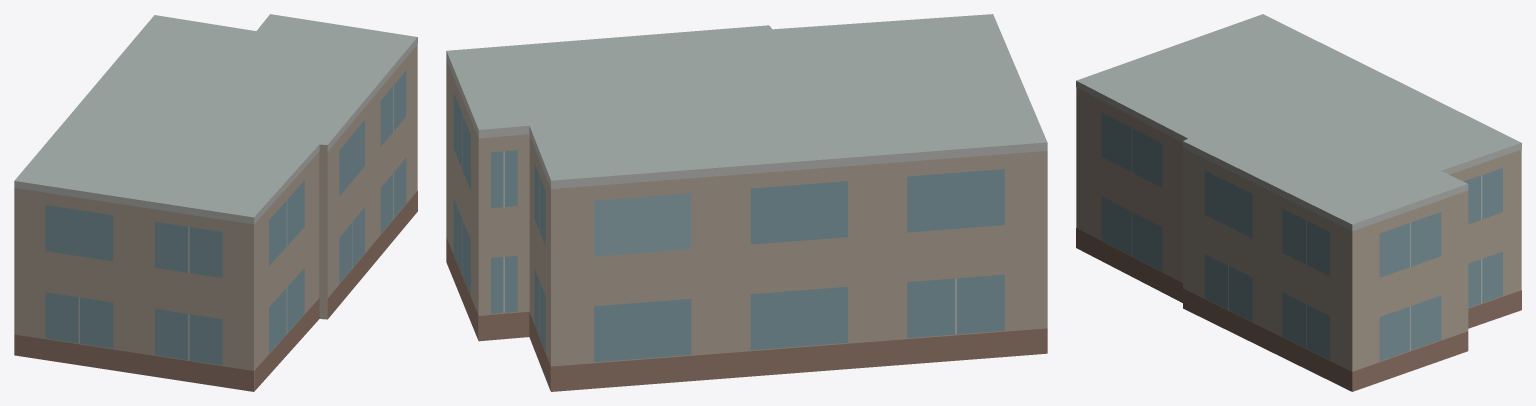
The model's file is survey-upis-32675953.glb.
3 renders of one model, left to right at view 1: azimuth 30°, elevation 25°; view 2: azimuth 150°, elevation 25°; view 3: azimuth 270°, elevation 25°, orthographic. The views are drawn at different scales.
Visible parts, largest first — view 1: survey-upis-32675953.tmp; view 2: survey-upis-32675953.tmp; view 3: survey-upis-32675953.tmp.
Part boxes in pixels (left/top/right/bottom): survey-upis-32675953.tmp: left=14, top=14, right=417, bottom=391; survey-upis-32675953.tmp: left=446, top=14, right=1047, bottom=391; survey-upis-32675953.tmp: left=1076, top=14, right=1521, bottom=391.
Size of the model in its own units: 16.48 by 6.1 by 14.74.
